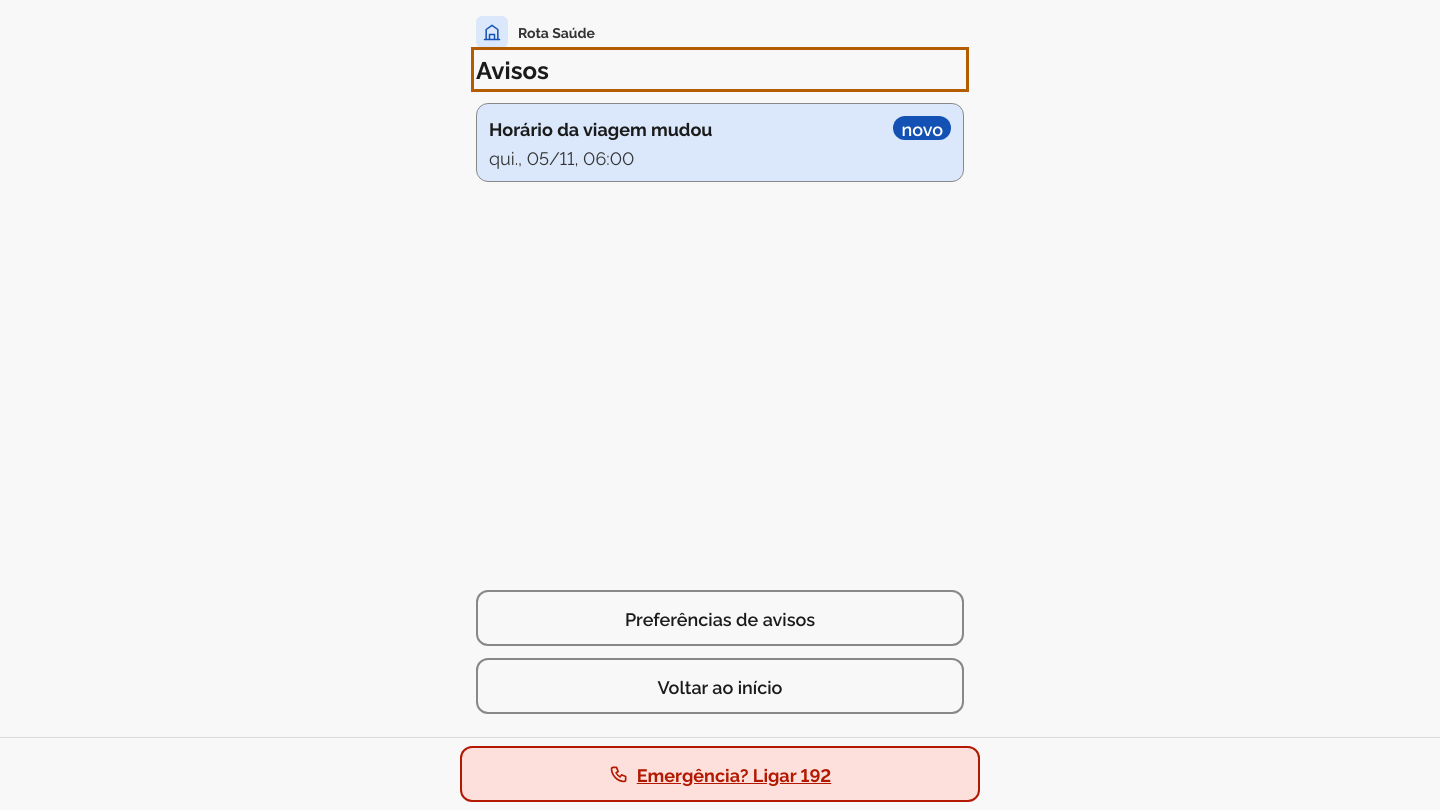
NoticesStep — aviso de viagem (módulo 30) › aviso de viagem: abre com data, hora e embarque, sem destino
Click the button "Horário da viagem mudou novo qui., 05/11, 06:00". click: (601, 128)
box: [476,103,964,182]
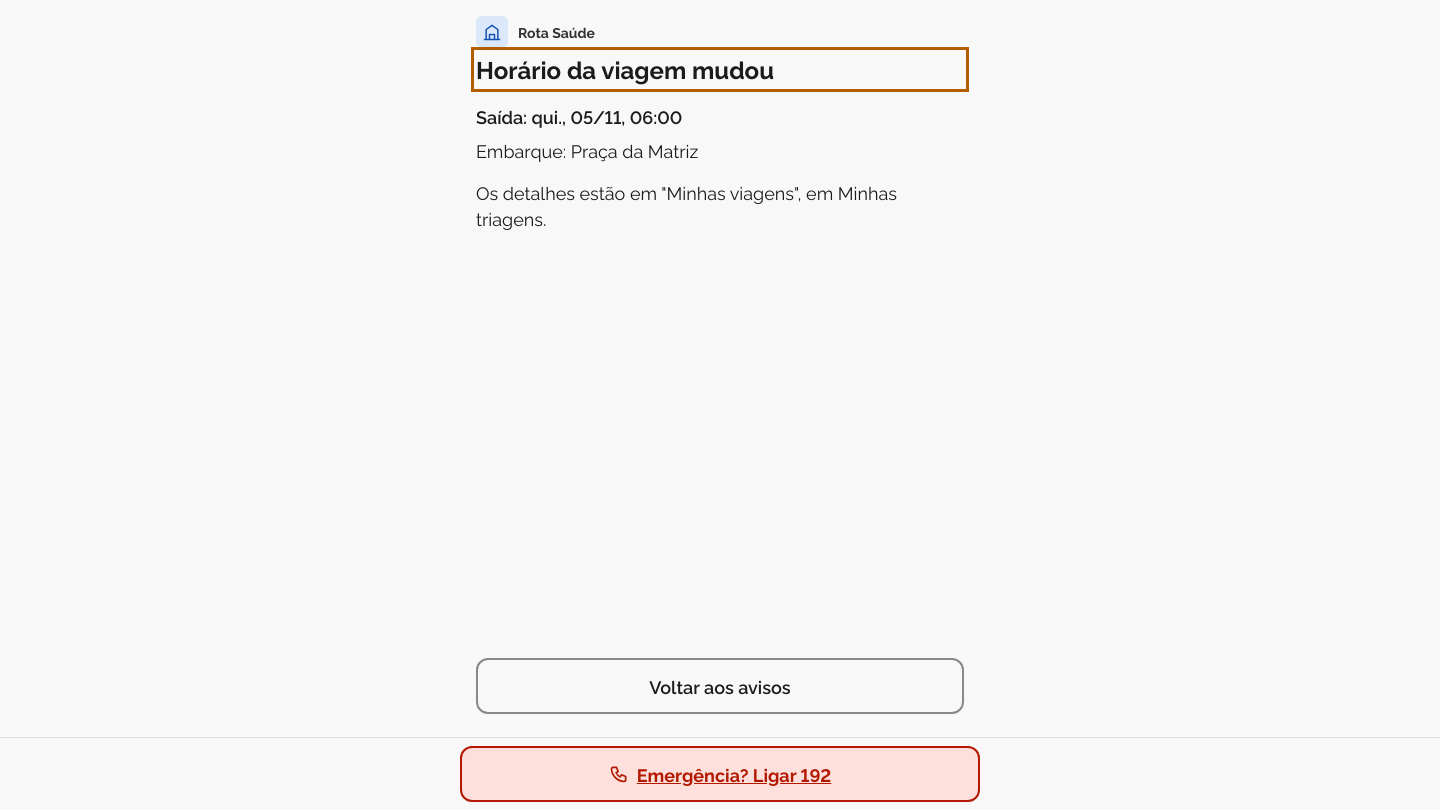
Now the heading "Horário da viagem mudou" is shown, box [476,52,774,85]
Now the text "Saída: qui., 05/11, 06:00" is shown, box [476,104,682,128]
Now the text "Embarque: Praça da Matriz" is shown, box [476,137,698,162]
